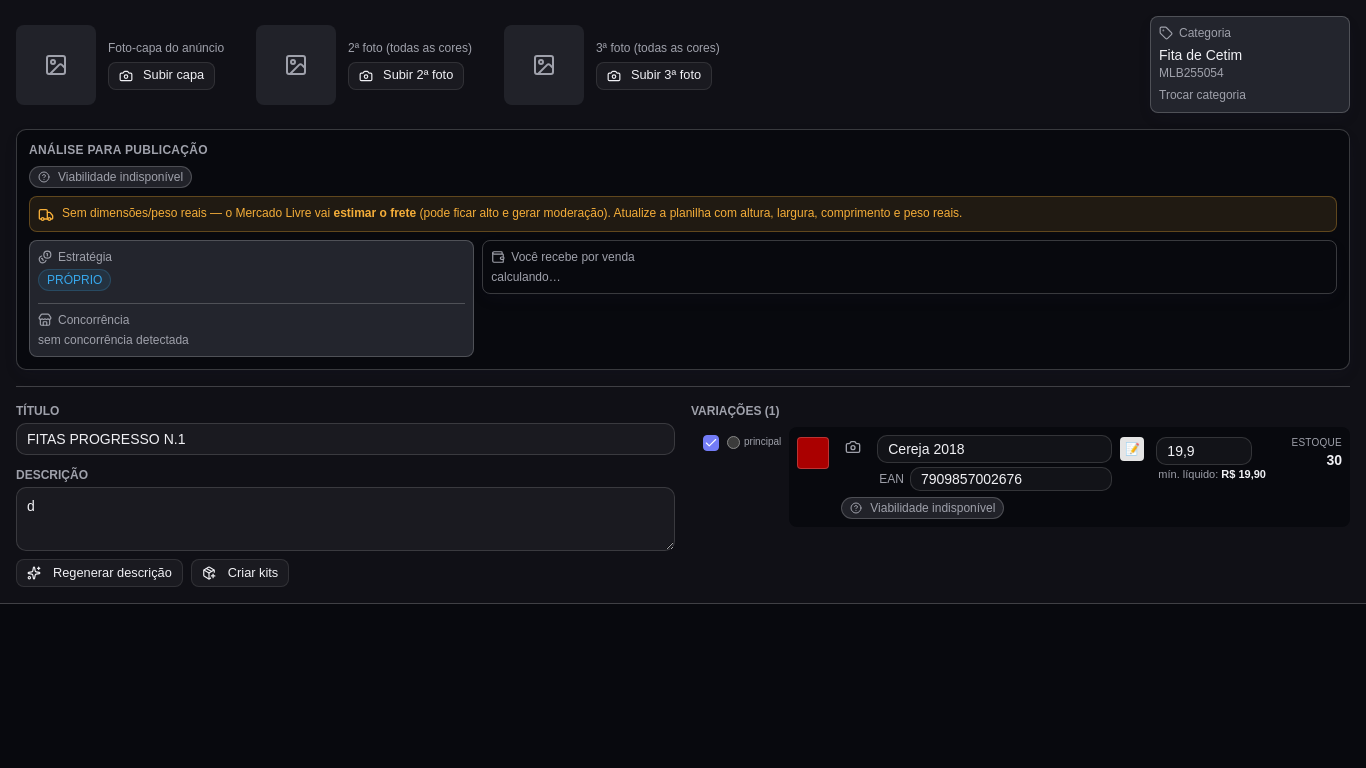
Test: FamiliaExpanded — botão "Criar kits" (ADR-0151 D-2) › clicar abre o diálogo de criação com os tamanhos já existentes marcados
Step 1. Click the button "Criar kits" → [240, 573], box [191, 559, 289, 587]
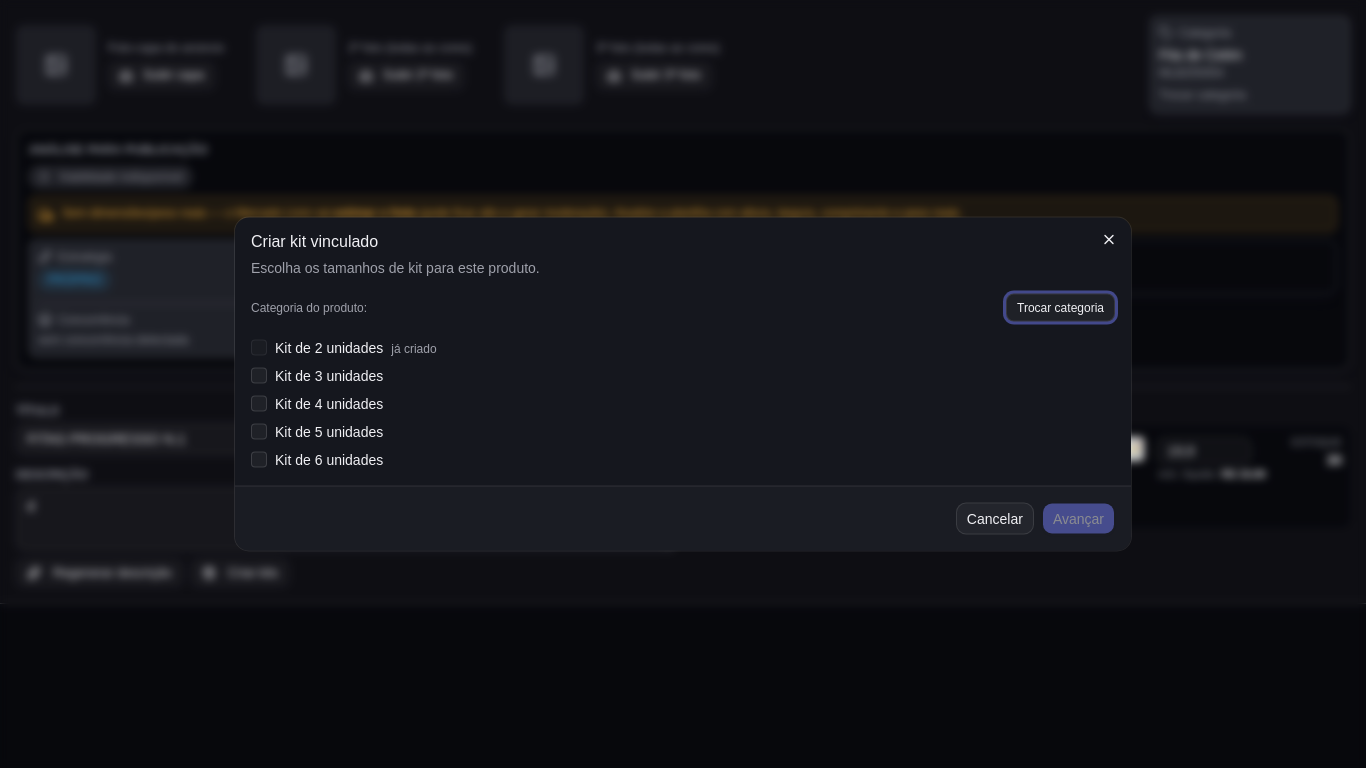
expect the heading "Criar kit vinculado" is shown: met, box [251, 232, 378, 250]
expect the text "já criado" is shown: met, box [391, 342, 437, 356]
